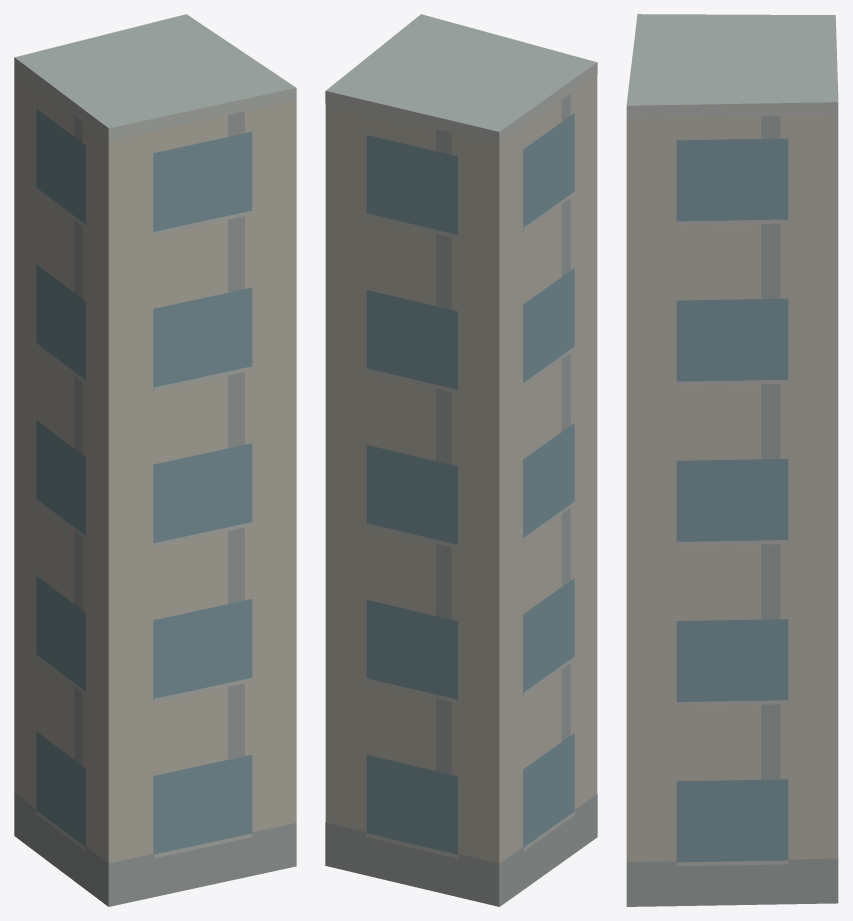
The model's file is survey-upis-32556146.glb.
3 renders of one model, left to right at view 1: azimuth 30°, elevation 25°; view 2: azimuth 150°, elevation 25°; view 3: azimuth 270°, elevation 25°, orthographic. The views are drawn at different scales.
Parts seen in each view (by area): view 1: survey-upis-32556146.tmp; view 2: survey-upis-32556146.tmp; view 3: survey-upis-32556146.tmp.
Boxes of the visible parts, box(x1,y1,x2,y2) form: survey-upis-32556146.tmp: box(14, 14, 296, 906); survey-upis-32556146.tmp: box(325, 14, 597, 906); survey-upis-32556146.tmp: box(626, 14, 838, 906).
Bounding box in the file's own units: 3.75 × 15.25 × 3.67.
